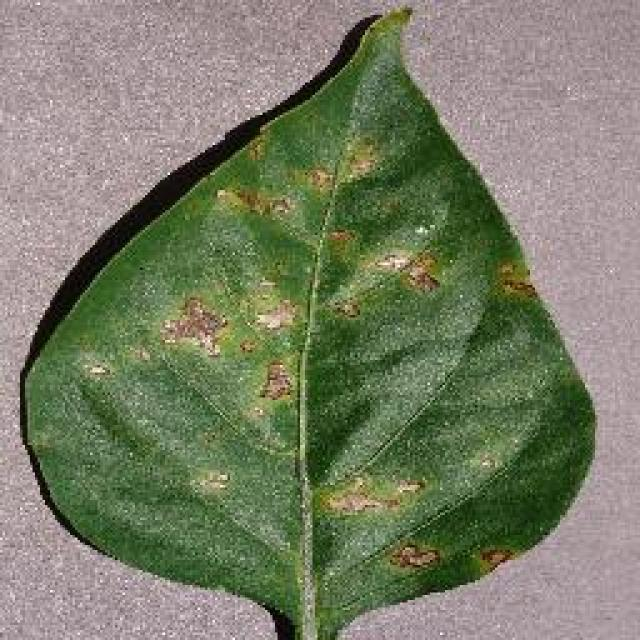Chilli_Bacterial_Spot: (15, 5, 600, 637), (315, 468, 430, 520), (155, 290, 230, 360), (210, 180, 295, 222), (395, 248, 445, 298), (490, 255, 538, 305), (340, 133, 385, 185), (385, 537, 443, 575), (248, 293, 300, 335), (255, 355, 295, 405), (187, 462, 235, 500), (473, 543, 515, 575), (75, 355, 113, 385)
